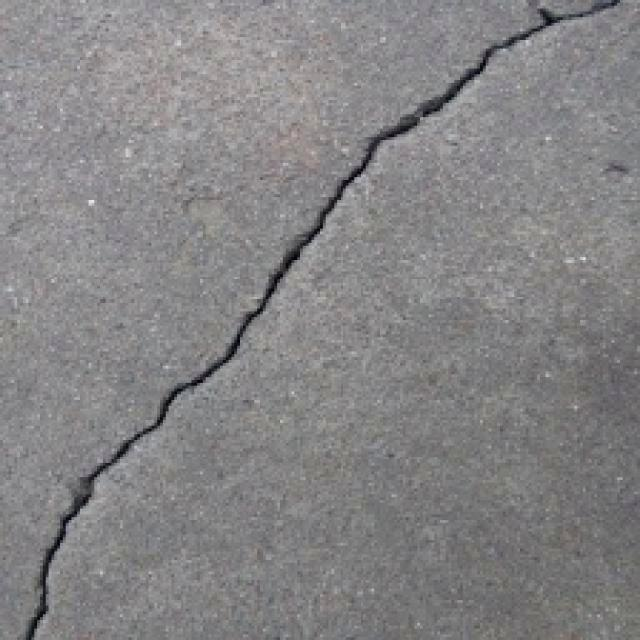SurfaceCrack: (16, 0, 616, 640)
